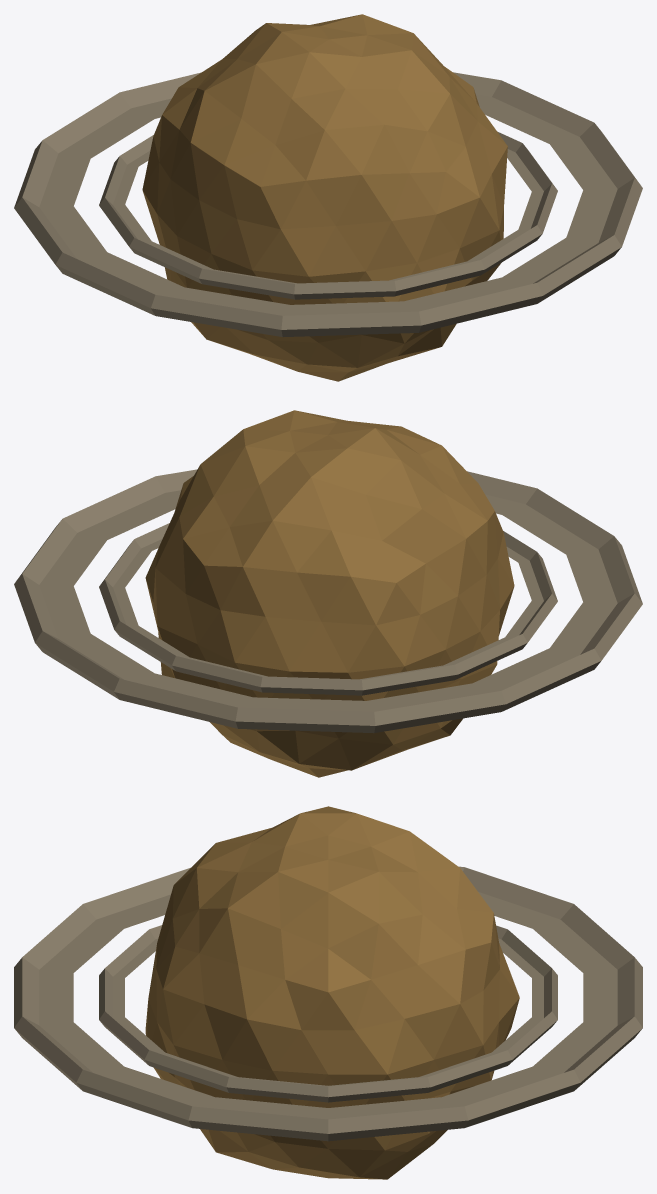
File: planet_with_2ring.fbx
The picture shows the model from 3 angles, top to bottom: view 1: azimuth 30°, elevation 25°; view 2: azimuth 150°, elevation 25°; view 3: azimuth 270°, elevation 25°; orthographic projection. The views are drawn at different scales.
Parts seen in each view (by area): view 1: Icosphere; view 2: Icosphere; view 3: Icosphere.
Boxes of the visible parts, box(x1,y1,x2,y2) form: Icosphere: box(14, 14, 642, 381); Icosphere: box(14, 410, 642, 777); Icosphere: box(14, 806, 642, 1179).
Size of the model in its own units: 337 by 194 by 329.
